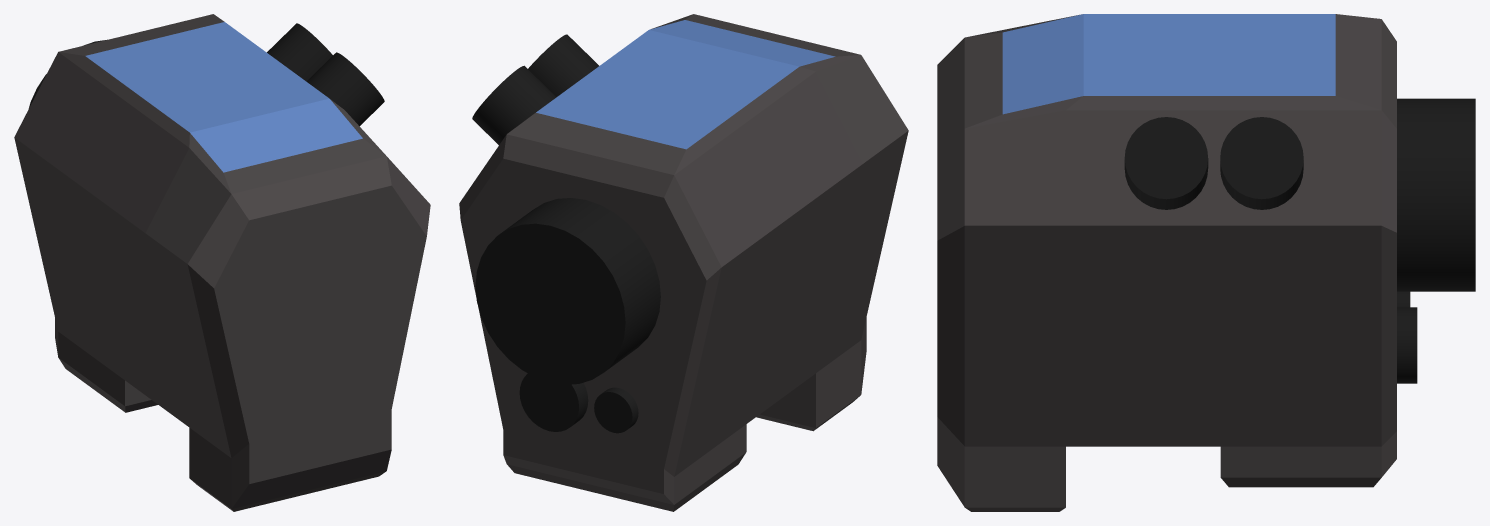
The model's file is d_EngineSmall.fbx.
3 views of the same model, side by side, from view 1: azimuth 30°, elevation 25°; view 2: azimuth 150°, elevation 25°; view 3: azimuth 270°, elevation 25° (orthographic). The views are drawn at different scales.
Visible parts, largest first — view 1: Small enginge; view 2: Small enginge; view 3: Small enginge.
Boxes of the visible parts, bbox=[...] form: Small enginge: bbox=[14, 14, 430, 511]; Small enginge: bbox=[459, 14, 908, 511]; Small enginge: bbox=[937, 14, 1475, 511].
Size of the model in its own units: 23.63 by 28.9 by 33.44.
